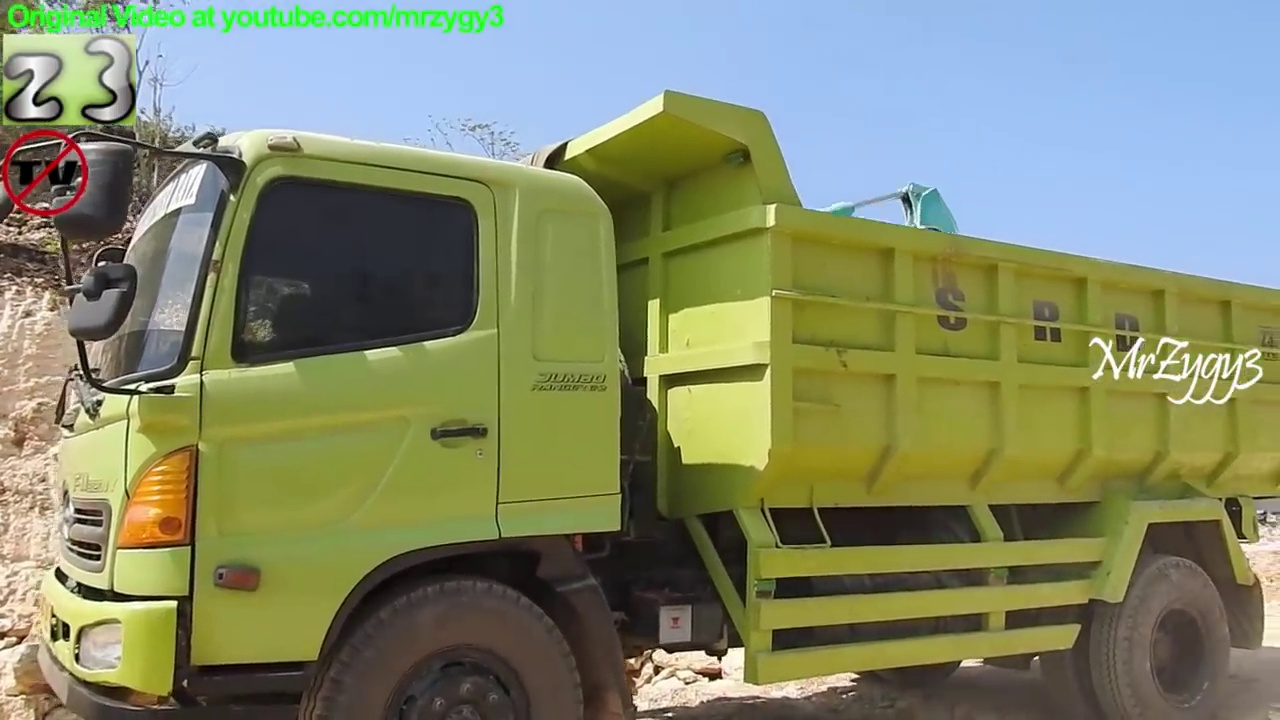truck: (1, 86, 1280, 720)
